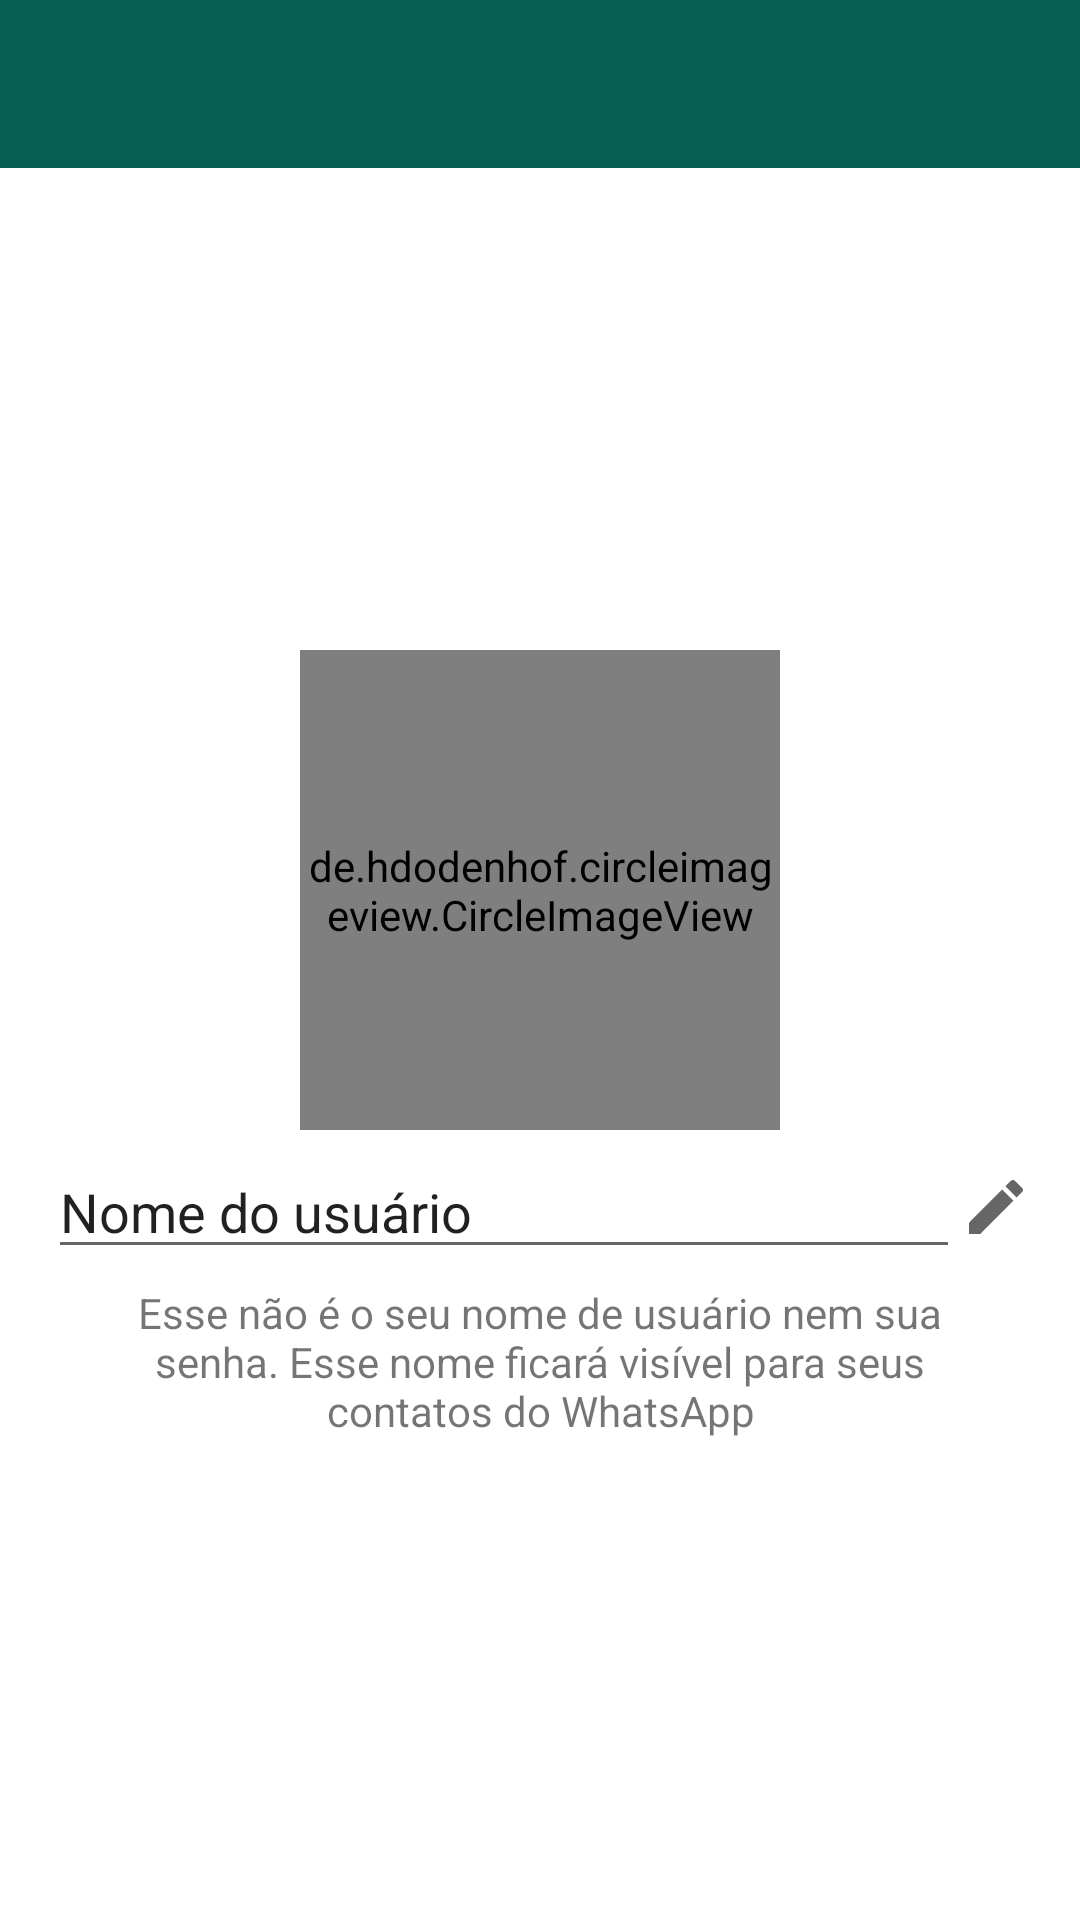

Where to tap for icons on this 1080×1920 app screen, as (x=x, y=y):
edit verde: (x=996, y=1207)
